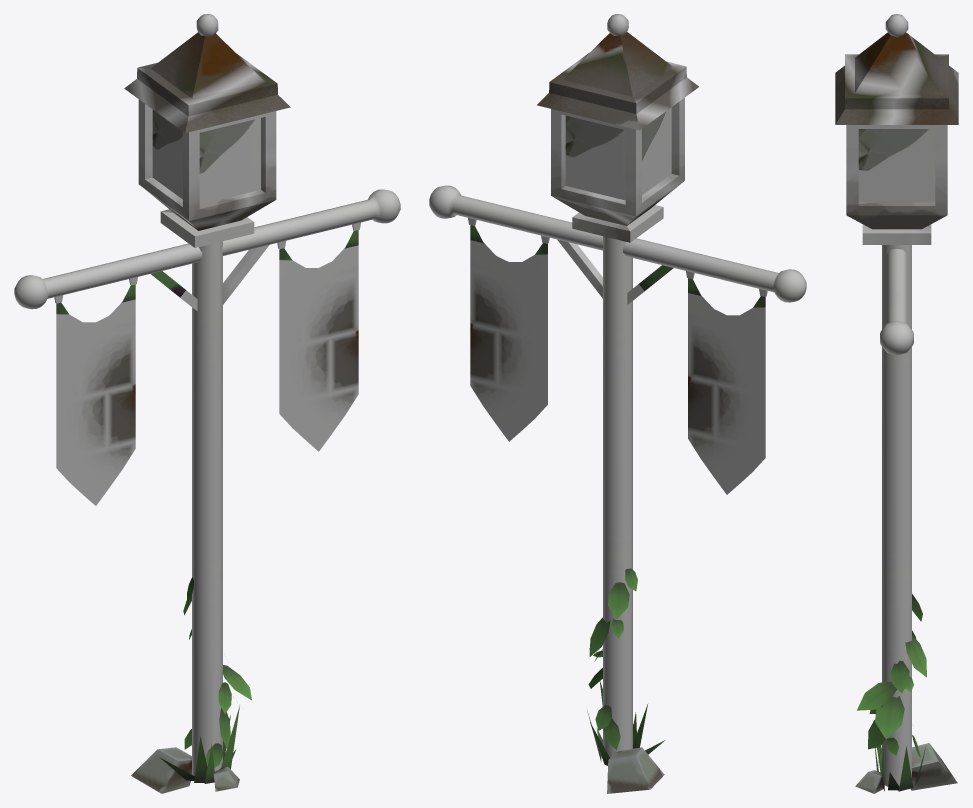
The picture shows the model from 3 angles, left to right: view 1: azimuth 30°, elevation 25°; view 2: azimuth 150°, elevation 25°; view 3: azimuth 270°, elevation 25°; orthographic projection. The views are drawn at different scales.
Visible parts, largest first — view 1: pPlane1, polySurface8, pCylinder1, pSphere3, pCube6, pCube2; view 2: pPlane1, polySurface8, pCylinder1, pSphere3, pCube6, pCube2; view 3: polySurface8, pCylinder1, pSphere3, pCube6, pPlane16, pPlane15, pPlane21, pPlane19, pCube5, pPlane9, pPlane17.
Boxes of the visible parts, left/top/right/bottom form: pPlane1: left=56, top=230, right=358, bottom=505; polySurface8: left=124, top=14, right=290, bottom=247; pCylinder1: left=192, top=241, right=222, bottom=776; pSphere3: left=14, top=189, right=400, bottom=309; pCube6: left=131, top=747, right=192, bottom=793; pCube2: left=150, top=245, right=269, bottom=310; pPlane1: left=470, top=225, right=765, bottom=494; polySurface8: left=537, top=14, right=698, bottom=242; pCylinder1: left=603, top=236, right=632, bottom=757; pSphere3: left=429, top=185, right=806, bottom=302; pCube6: left=607, top=747, right=664, bottom=793; pCube2: left=557, top=239, right=673, bottom=304; polySurface8: left=835, top=14, right=958, bottom=244; pCylinder1: left=882, top=245, right=911, bottom=786; pSphere3: left=880, top=249, right=913, bottom=355; pCube6: left=910, top=743, right=957, bottom=790; pPlane16: left=875, top=696, right=904, bottom=738; pPlane15: left=857, top=681, right=897, bottom=710; pPlane21: left=905, top=635, right=926, bottom=677; pPlane19: left=890, top=660, right=909, bottom=693; pCube5: left=855, top=770, right=883, bottom=793; pPlane9: left=898, top=746, right=913, bottom=791; pPlane17: left=868, top=719, right=885, bottom=749.
Size of the model in its own units: 15.68 by 30.36 by 4.34.
Materials: 2 (2 with a texture image).
